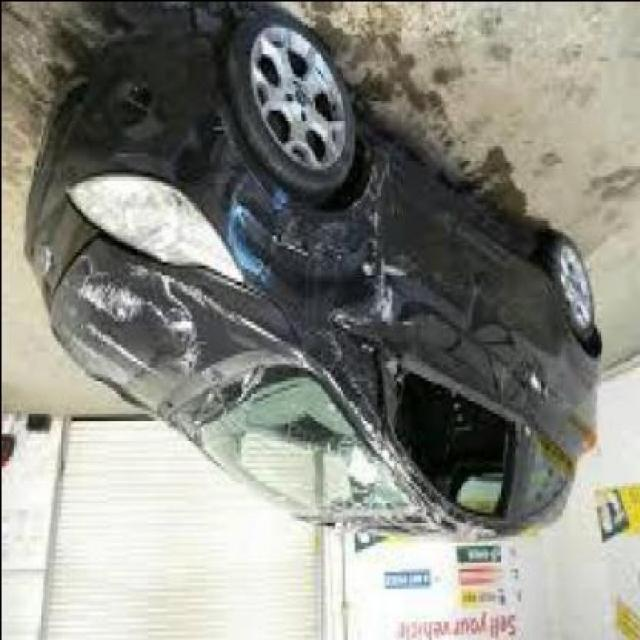damage: (60, 142, 473, 537)
